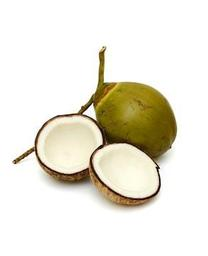coconut: (90, 79, 178, 158), (34, 100, 107, 182), (89, 142, 162, 206)
